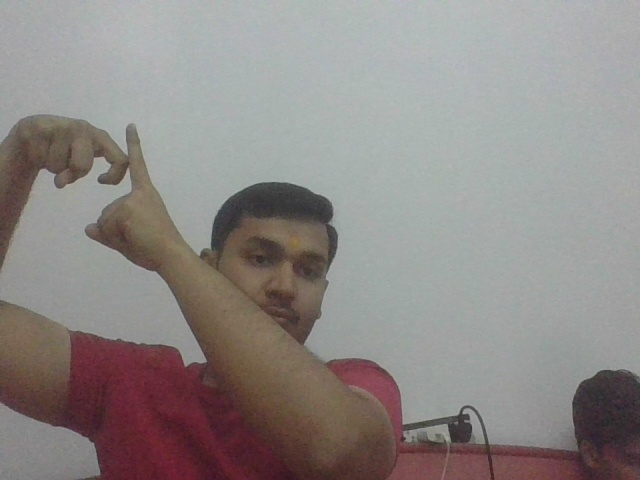K: (78, 115, 160, 205)
